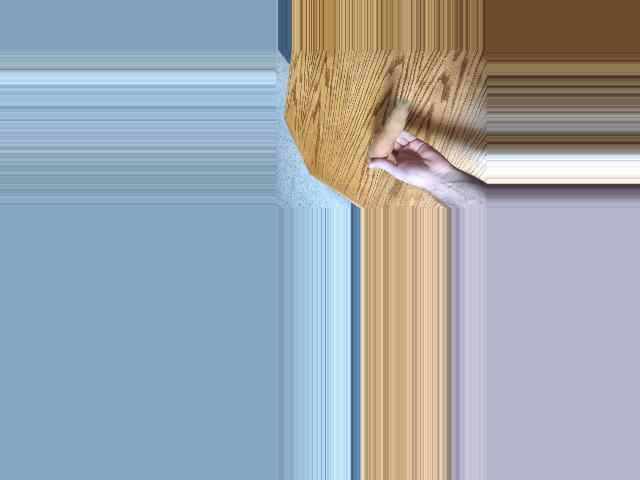sweet_potato: (366, 97, 415, 171)
